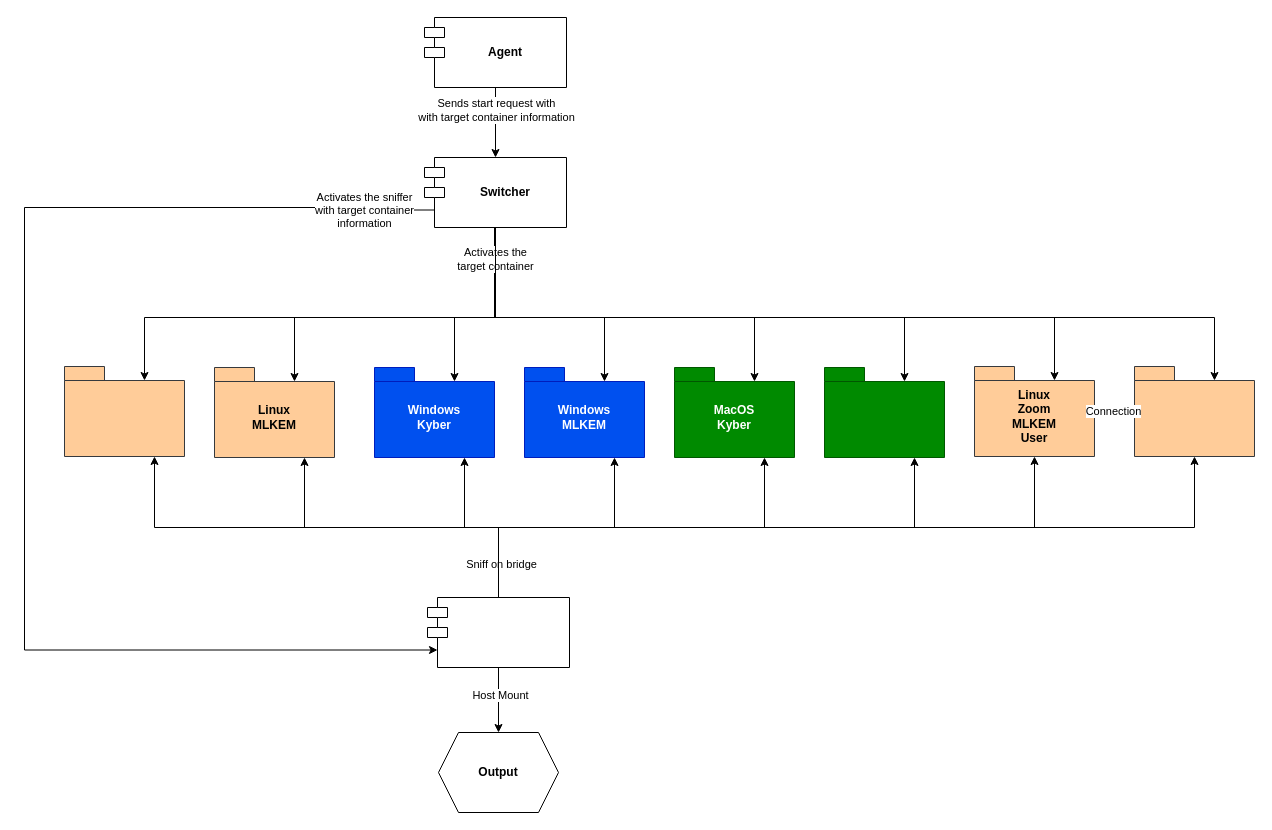
Some shapes in this 1272 by 830 pixel diagram are drawn without their labels. The shapes that lost their labels are listed below. From the top down, each one's box as (x1, y1, x2, y2) in pixels, then its label:
(64, 366, 184, 456): Linux Kyber
(824, 366, 944, 458): MacOS MLKEM
(1134, 366, 1254, 456): Linux Zoom MLKEM Host
(426, 596, 570, 668): Sniffer
